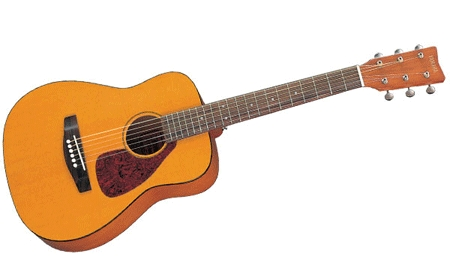guitar: (1, 45, 447, 257)
